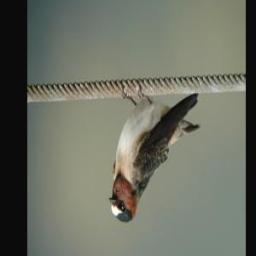Swallow: (106, 84, 202, 230)
